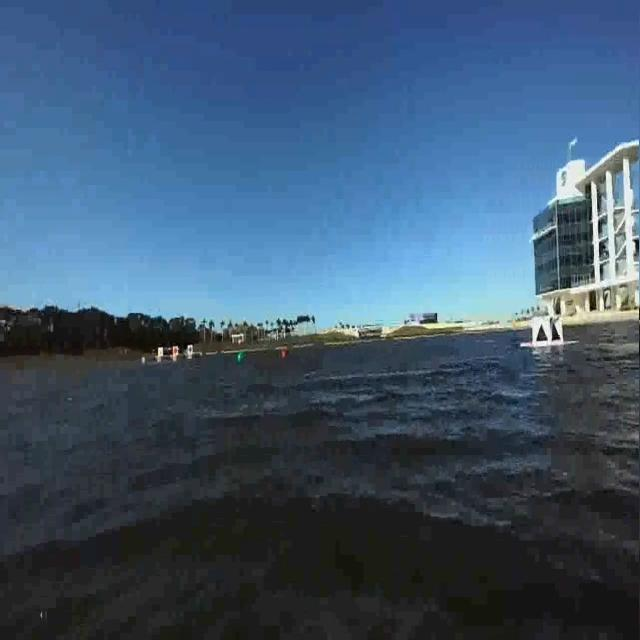green-buoy: (233, 343, 248, 363)
red-buoy: (275, 348, 295, 366)
